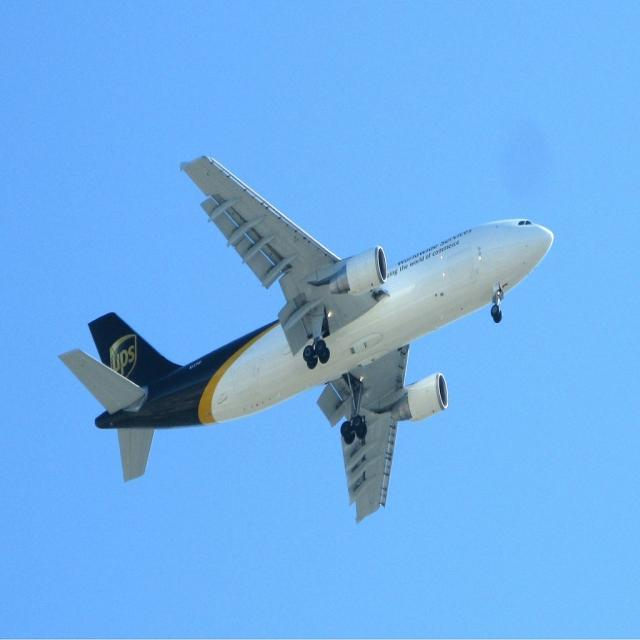ups: (109, 334, 137, 379)
